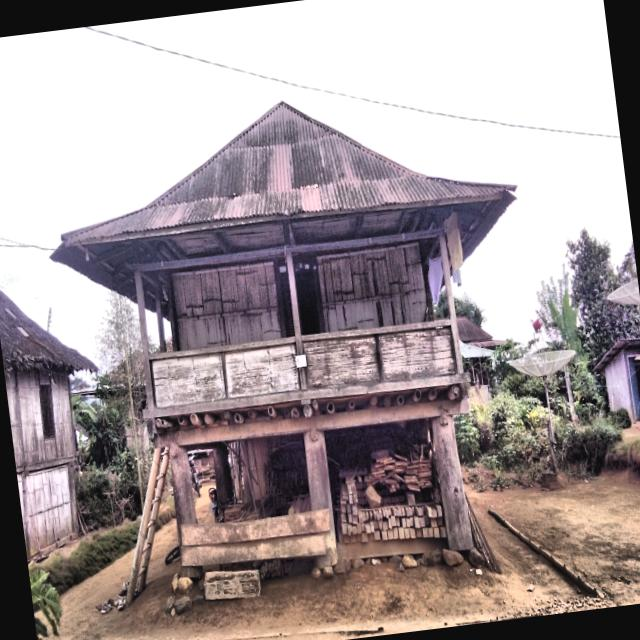column: (431, 414, 473, 549), (303, 428, 338, 567), (168, 444, 203, 577)
door: (278, 262, 320, 337)
ornamen: (379, 325, 457, 381), (149, 351, 226, 407), (224, 343, 301, 398), (302, 334, 380, 388)
roof: (52, 102, 514, 298), (0, 290, 97, 371), (456, 315, 502, 347)
stair: (123, 446, 169, 608)
wall: (316, 242, 427, 331), (171, 261, 282, 349), (4, 367, 75, 467), (26, 465, 73, 555)
window: (39, 384, 55, 439)
